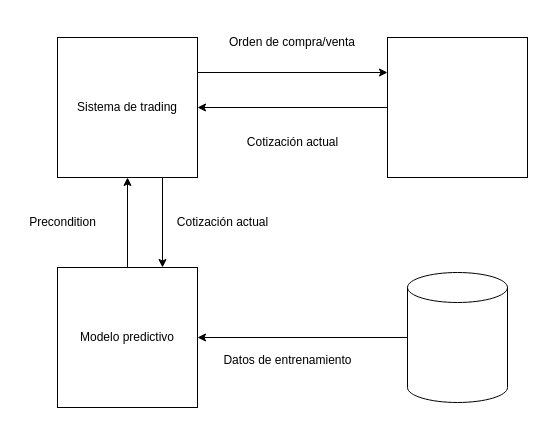
The diagram is 545 pixels wide and 425 high, and some of its shapes have lost their labels. Here are the shapes that lost their labels. From the top down, the centre of each, then its label:
At (457,107): "Trading API".
At (457,337): "Archivo historico".
